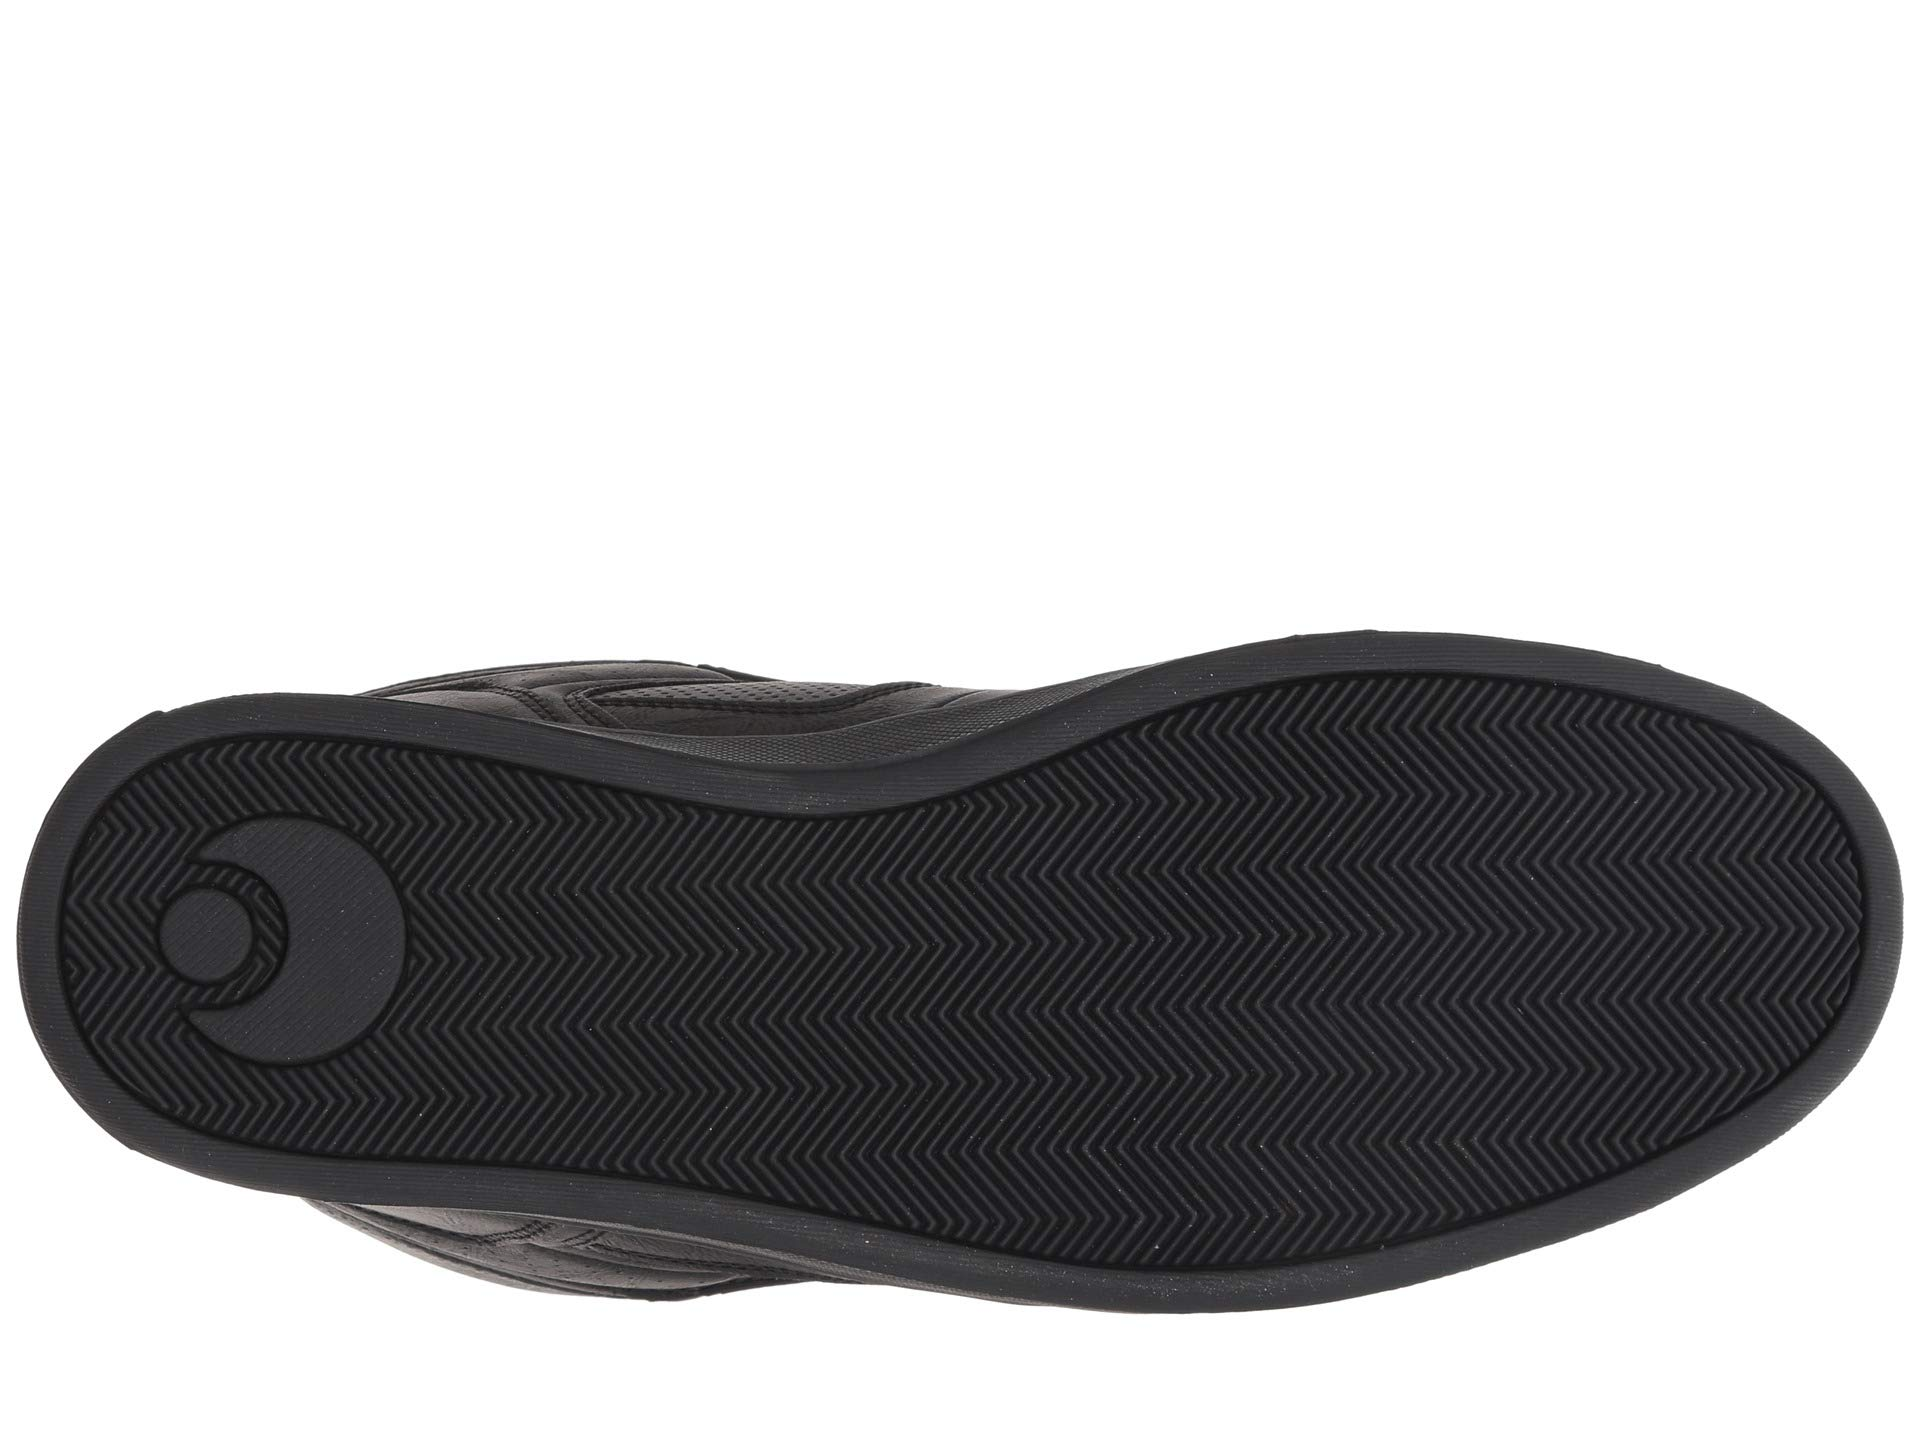chevron: (116, 803, 513, 1113), (650, 824, 907, 1075)
circle: (116, 803, 513, 1113)
